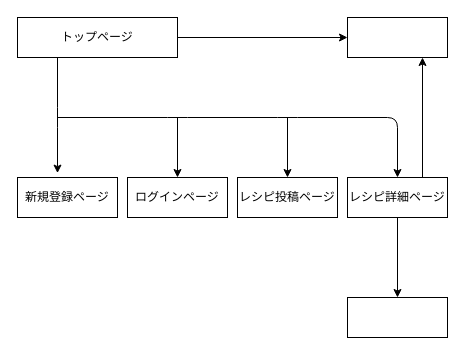
The diagram is 465 pixels wide and 355 high, and some of its shapes have lost their labels. Each missing label, with the centre of its shape:
マイページ: point (397, 37)
レシピ編集ページ: point (397, 317)
